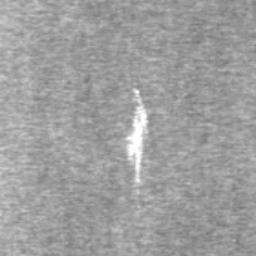White rust: (125, 88, 150, 184)
